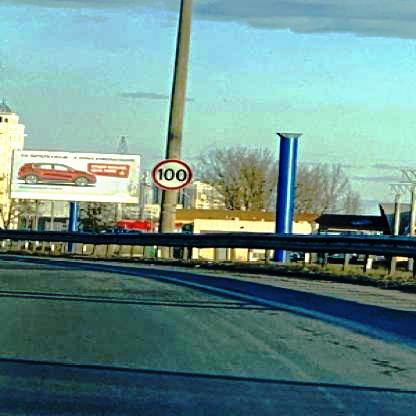Speed Limit -100-: (150, 156, 196, 193)
